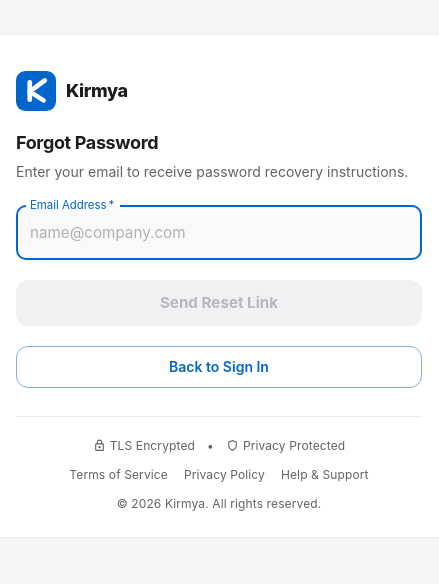
Test case: ForgotPasswordPage › lets the user go back and try a different address
The image size is (439, 584).
Type "typo@example.com" into the field labelled "Email Address *" at (219, 233), box x1=16 y1=206 x2=422 y2=260
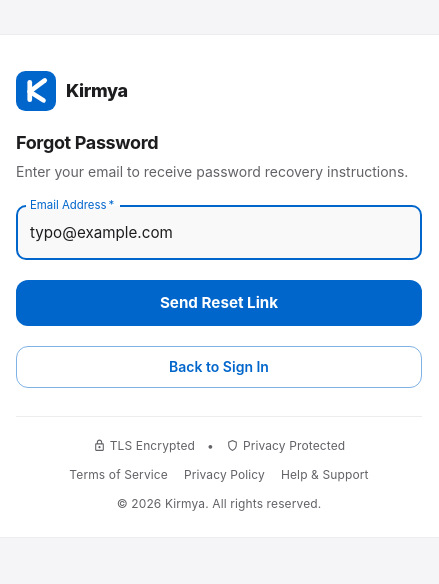
Click the button "Send Reset Link" at (219, 303), box x1=16 y1=280 x2=422 y2=326
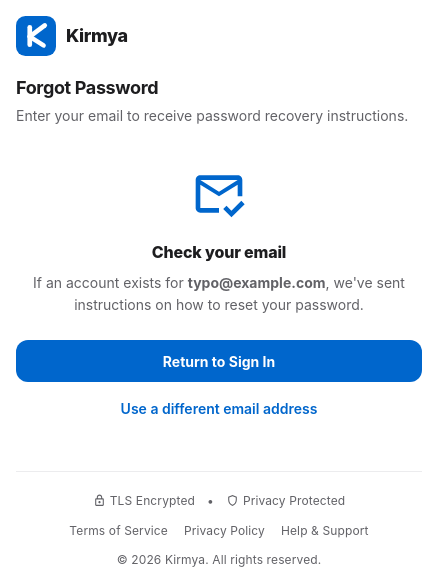
Result: the heading "Check your email" is shown at x1=152 y1=242 x2=286 y2=262
Click the button "Use a different email address" at (219, 409), box x1=16 y1=390 x2=422 y2=427
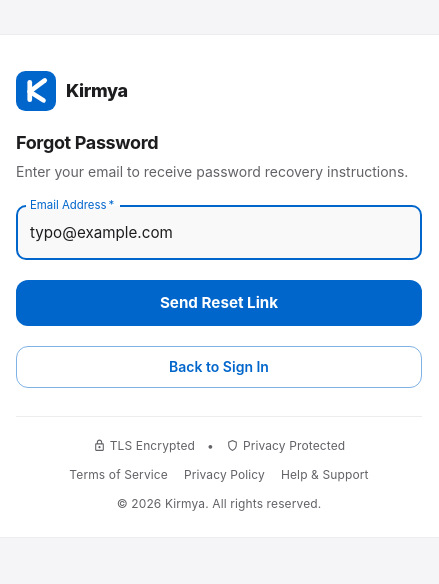
Result: the field labelled "Email Address *" is shown at x1=16 y1=206 x2=422 y2=260
